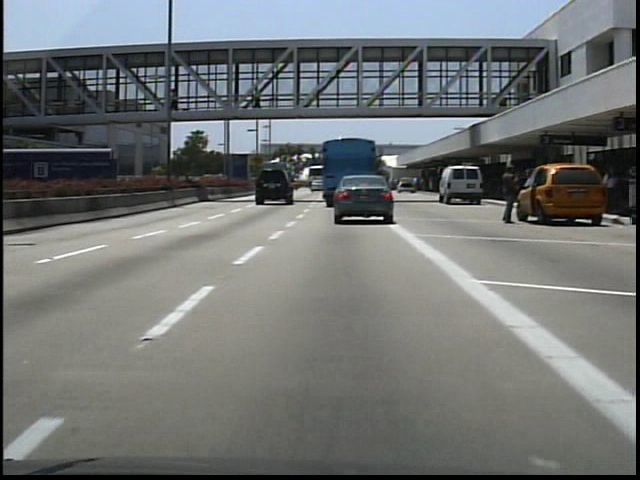person: (499, 163, 525, 226), (250, 85, 266, 117), (169, 87, 184, 114)
